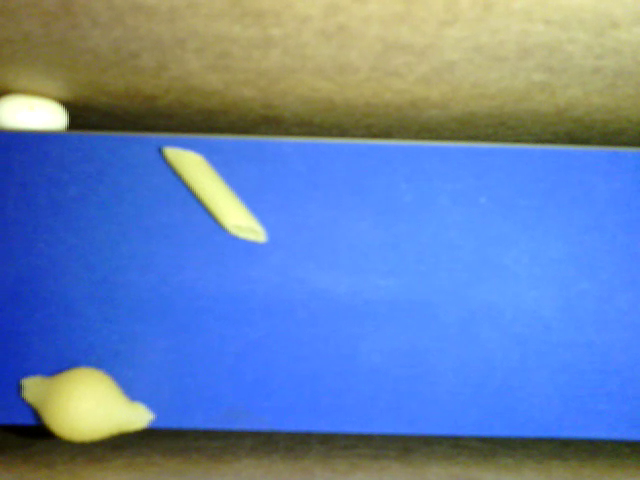penne: (160, 145, 267, 242)
shell: (20, 365, 154, 442)
